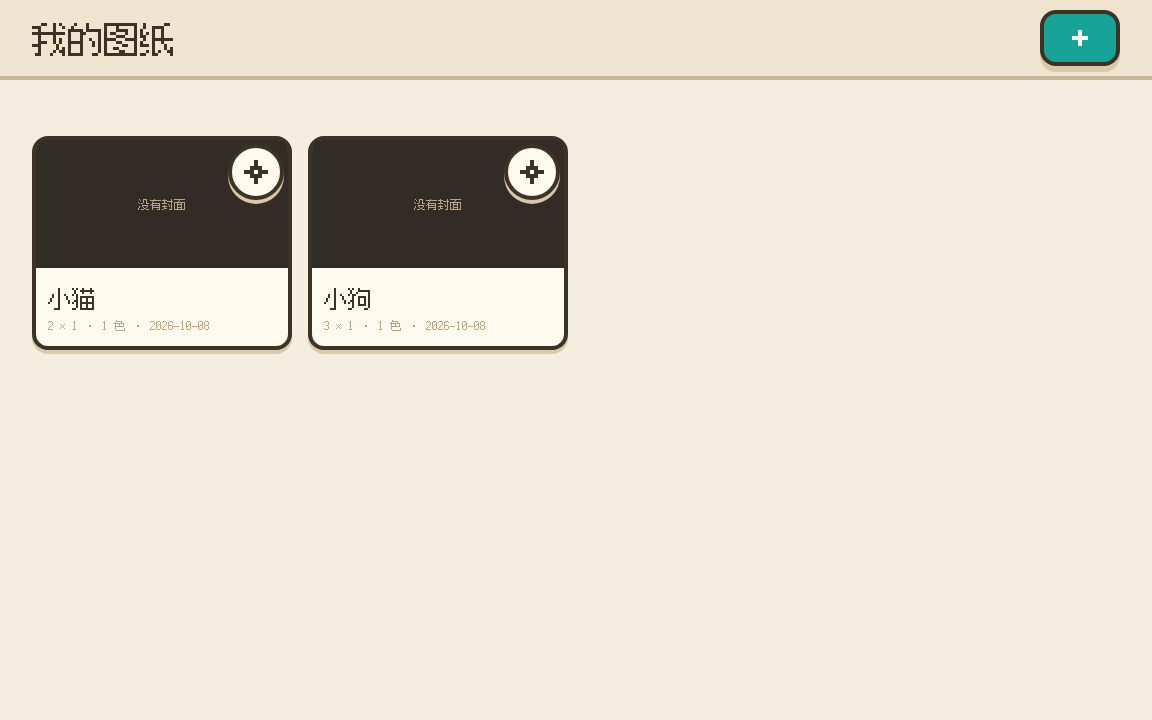
LibraryPage › 上一次「查看」的读取晚到时不得覆盖当前查看层（连点两条工程）
Note: 列表按 updatedAt 倒序 ⇒ [0] 是「小猫」(a)，[1] 是「小狗」(b)。先点 a：它的读停在闸门上。
Click the button with test id "card-menu" at (256, 172), box top-left (228, 144), bottom-right (284, 200)
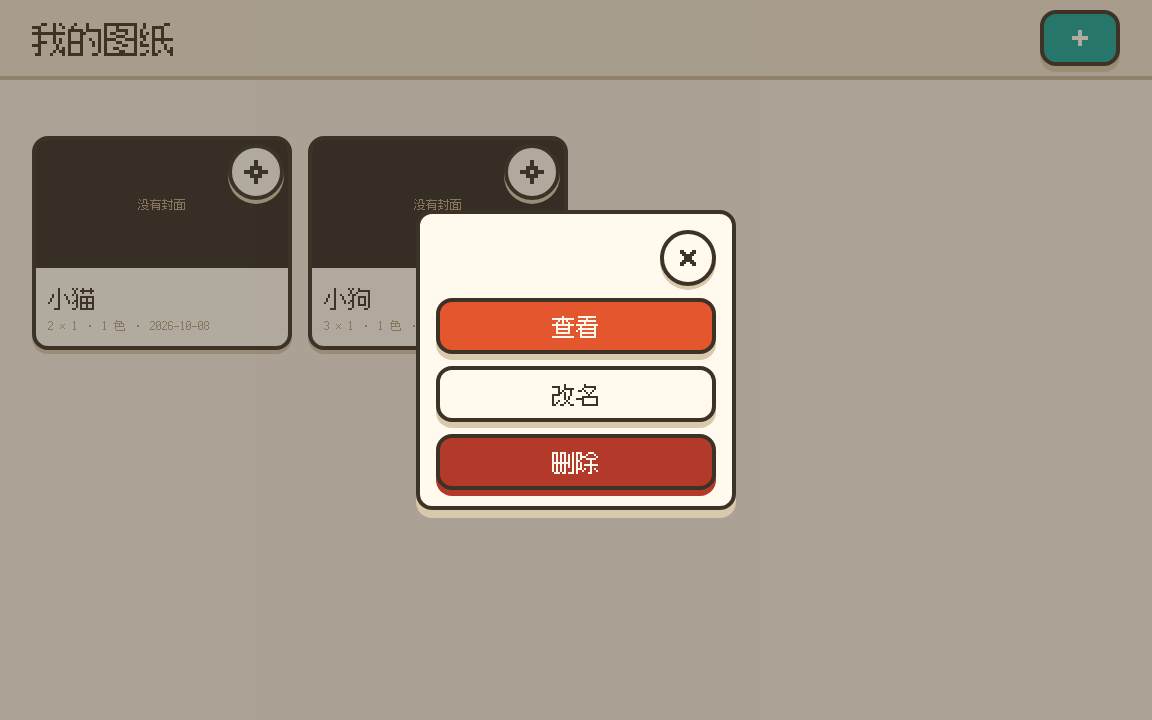
Click the button with test id "view-sheet" at (576, 326), box top-left (436, 298), bottom-right (716, 354)
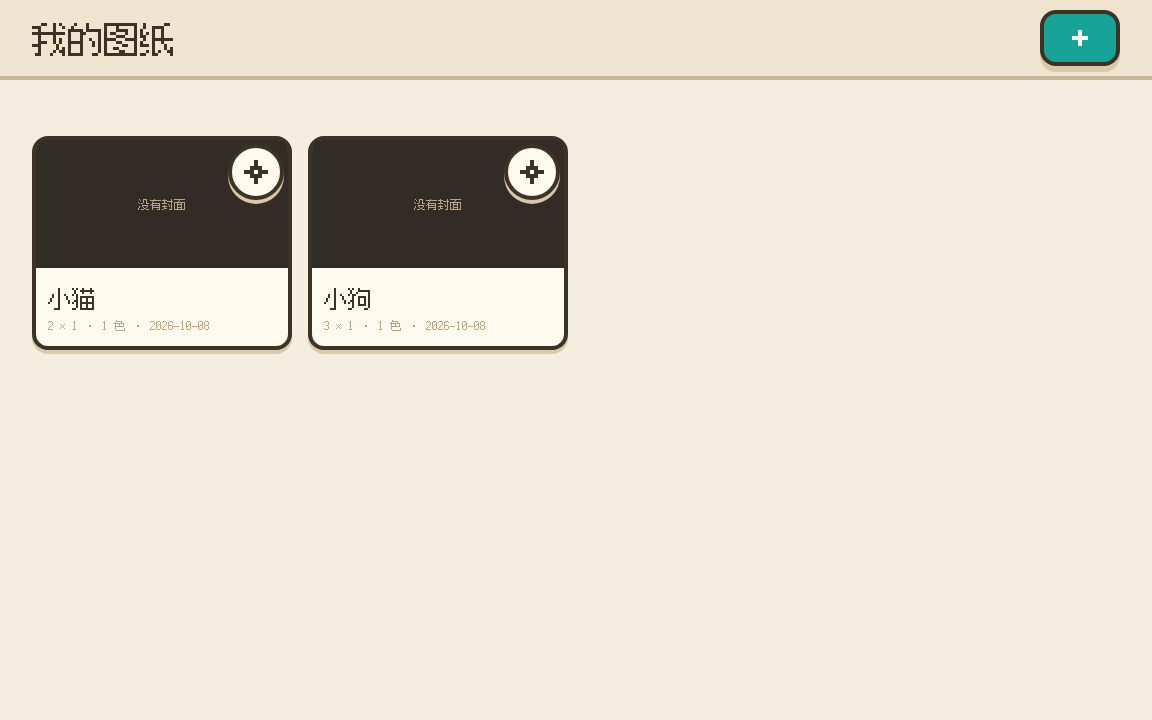
Note: 再点 b（查看层 `fixed inset-0`，事件仍可派发）：b 的读立刻结算
Click the button with test id "card-menu" at (532, 172), box top-left (504, 144), bottom-right (560, 200)
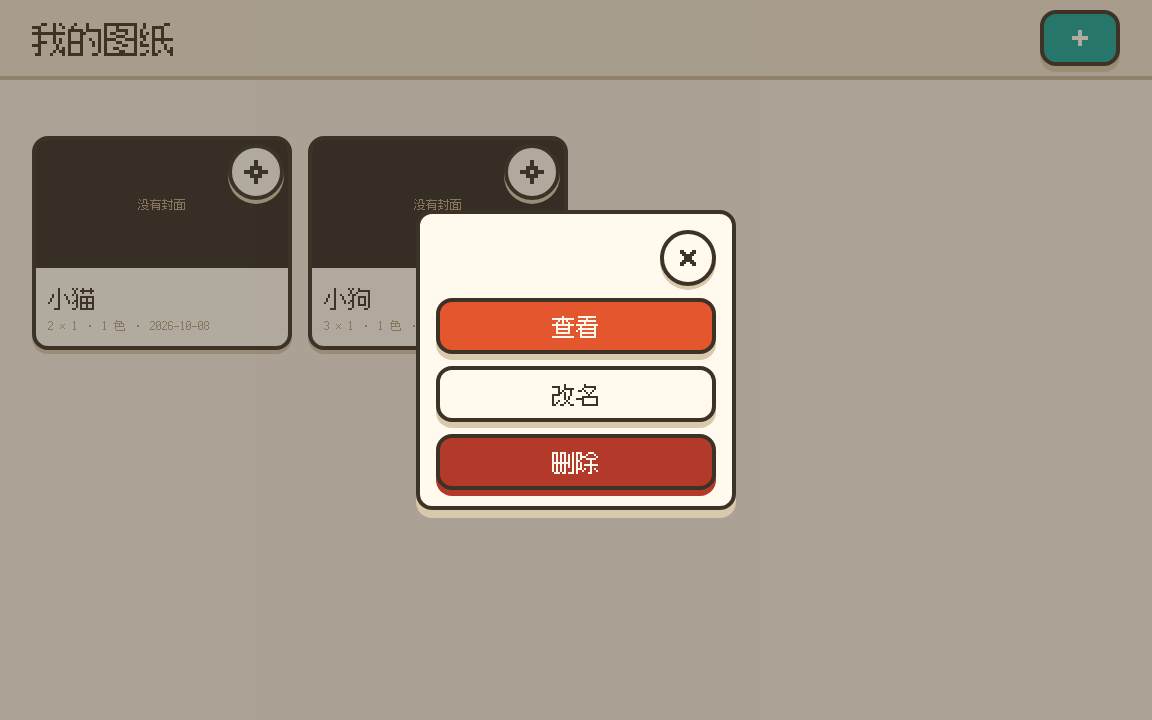
Click the button with test id "view-sheet" at (576, 326), box top-left (436, 298), bottom-right (716, 354)
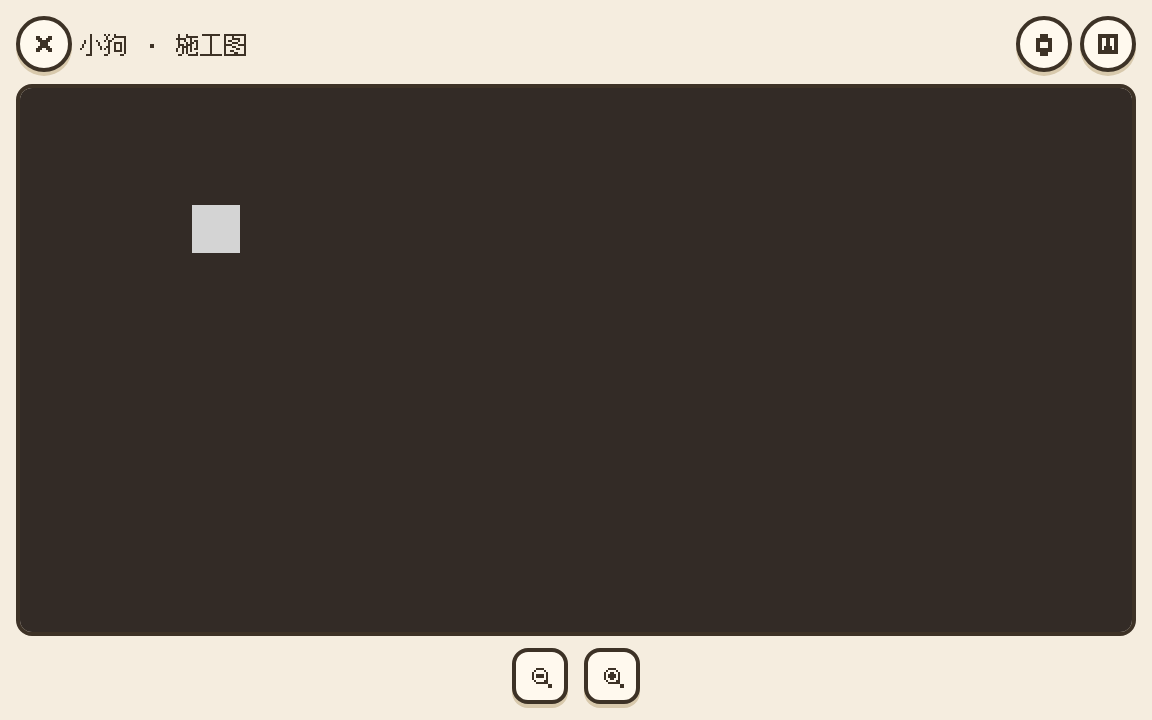
Now the heading with test id "sheet-title" reads "小狗 · 施工图", box top-left (80, 28), bottom-right (248, 60)
